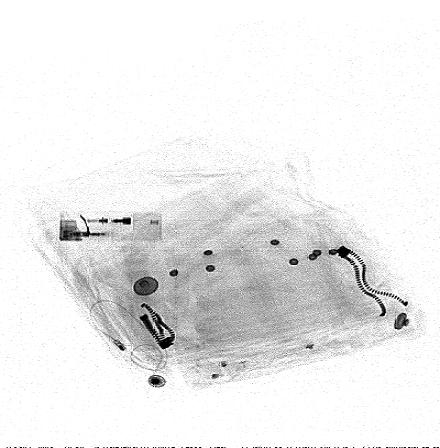Lighter: (58, 210, 164, 241)
